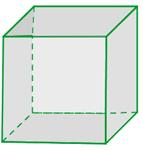cubos: (1, 3, 142, 147)
